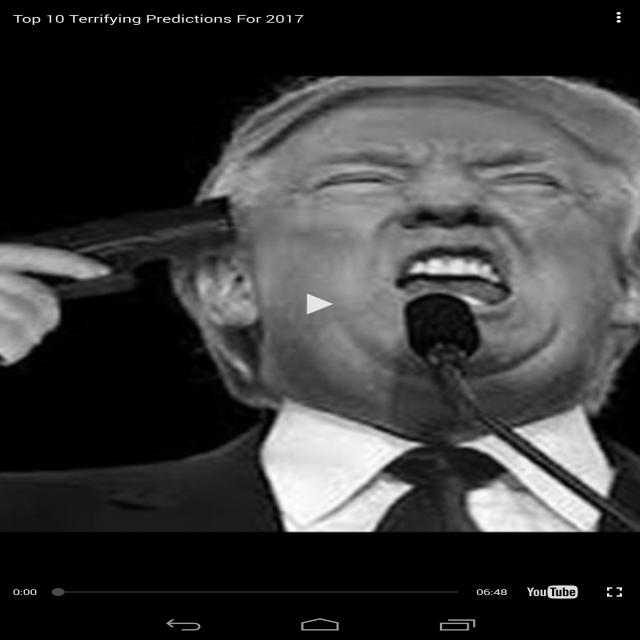ImageButton: (597, 579, 630, 603), (606, 7, 632, 26)
ImageView: (25, 62, 620, 532)
SeekBar: (42, 580, 472, 602)
TextView: (10, 10, 324, 30)
